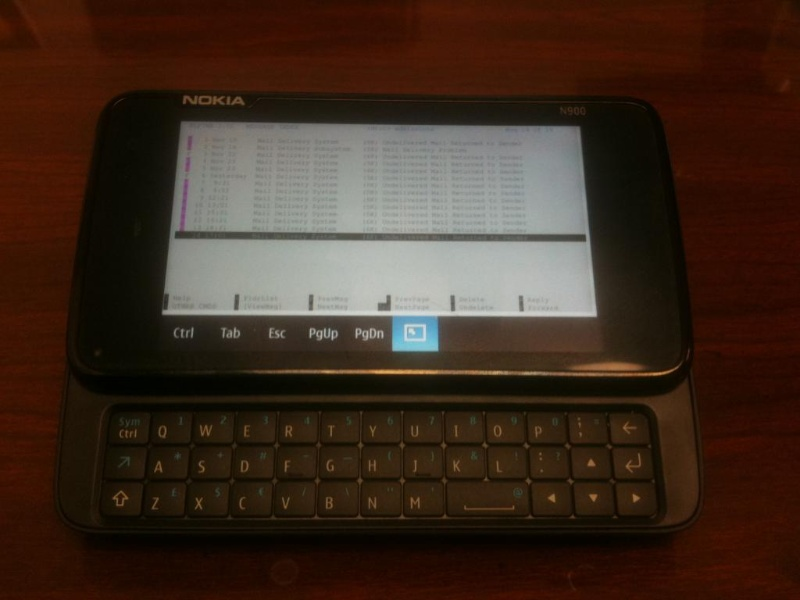cellphone: (82, 82, 694, 395)
